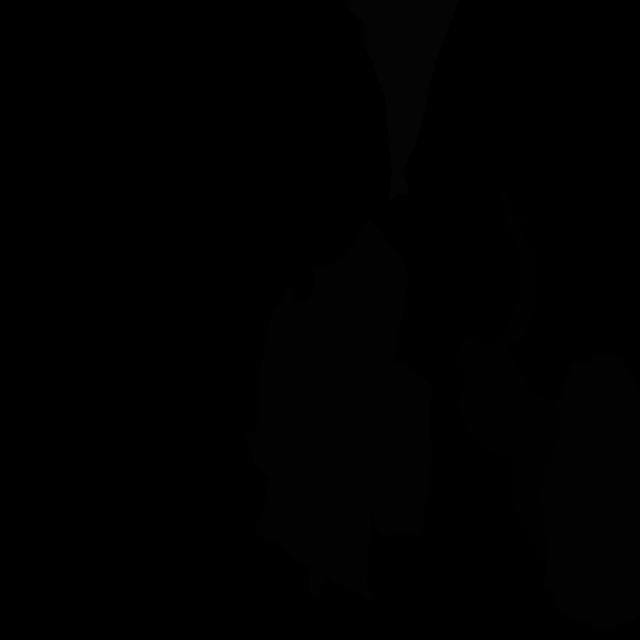cardboard: (254, 218, 409, 599), (540, 355, 640, 630), (245, 288, 306, 477), (372, 360, 433, 538), (308, 566, 327, 595)
rigid_plastic: (456, 185, 561, 563)
soft_plastic: (348, 0, 459, 202)
